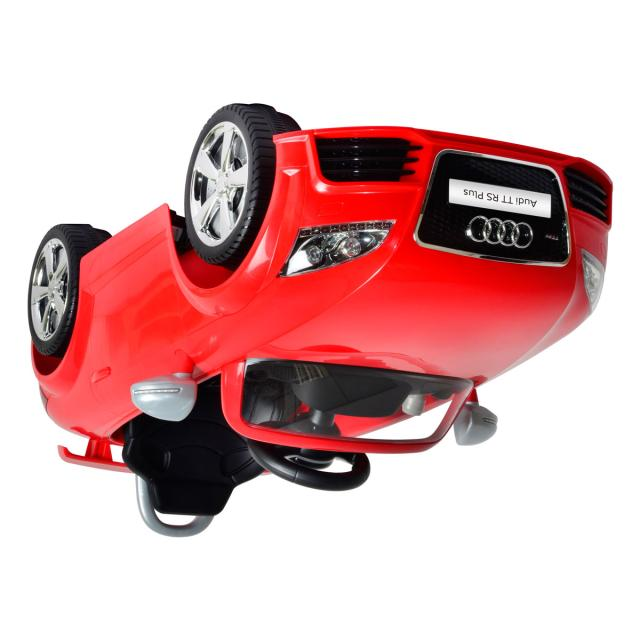Car: (28, 102, 614, 539)
